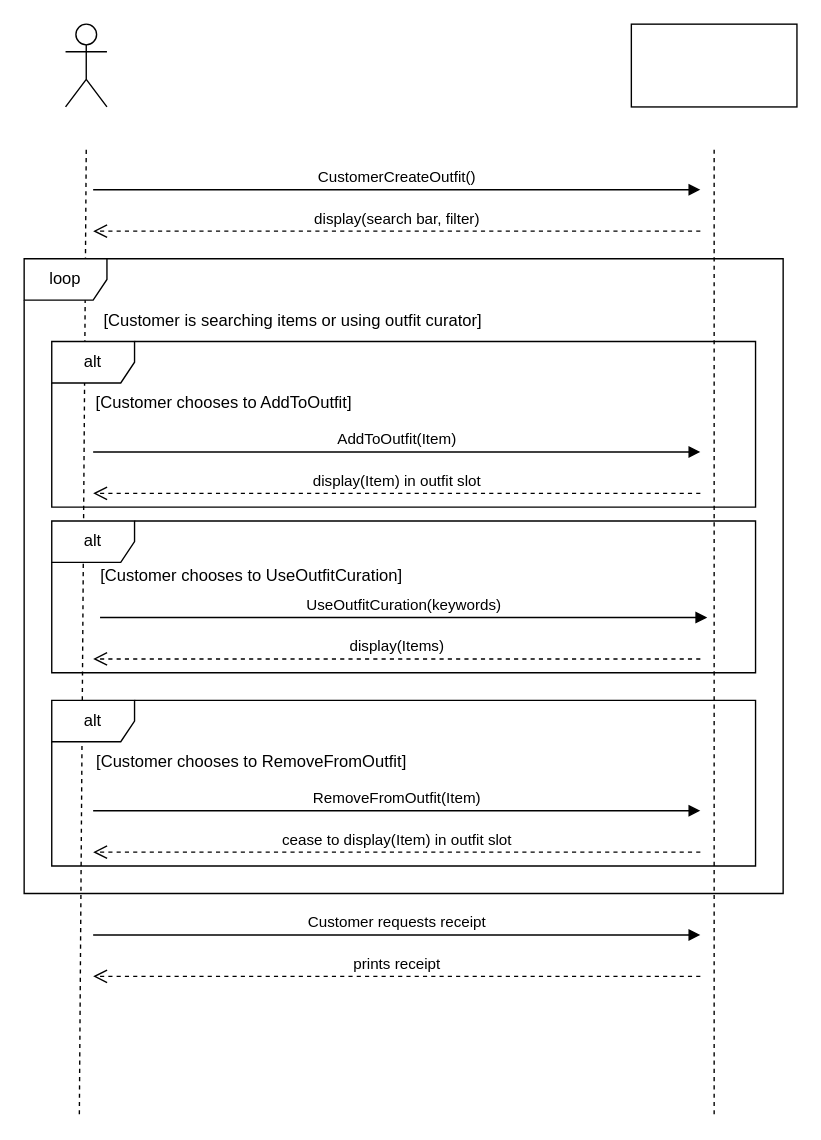
Some shapes in this 821 by 1140 pixel diagram are drawn without their labels. The centre of each missing label's shape, as x and y in pixels:
:System: the point at 713,65
Customer: the point at 85,65
